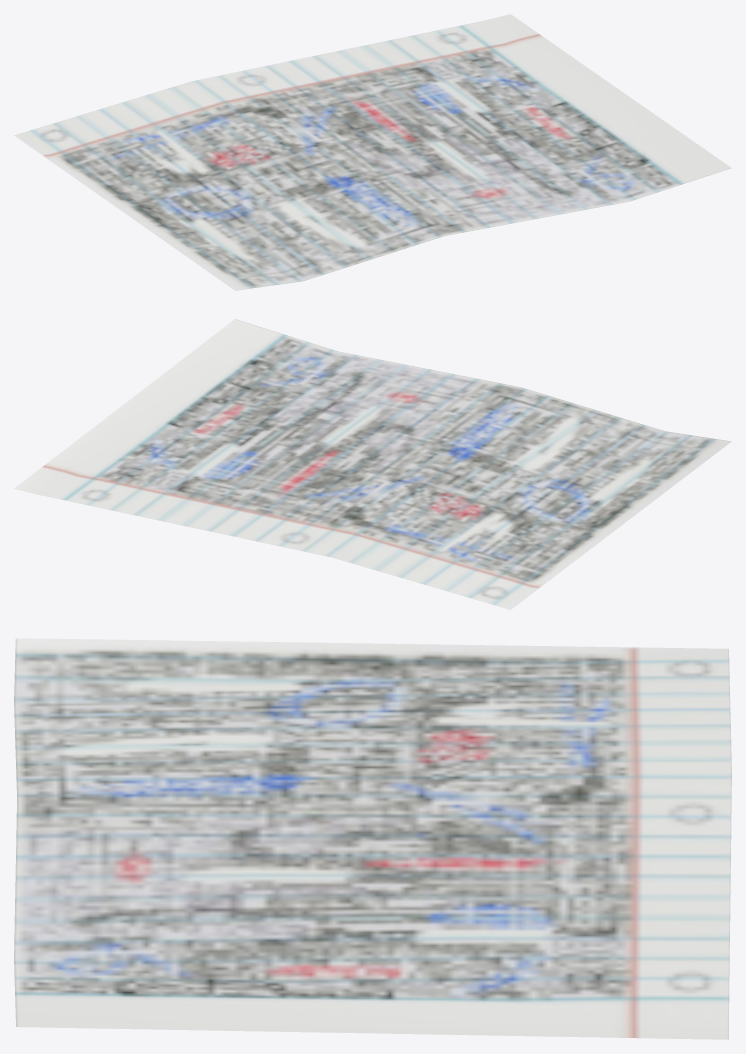
The model's file is paper-white-scribbled.glb.
3 views of the same model, one above another, from view 1: azimuth 30°, elevation 25°; view 2: azimuth 150°, elevation 25°; view 3: azimuth 270°, elevation 25° (orthographic). The views are drawn at different scales.
Visible parts, largest first — view 1: PaperWhiteScribbled; view 2: PaperWhiteScribbled; view 3: PaperWhiteScribbled.
Boxes of the visible parts, x1,y1,x2,y2 form: PaperWhiteScribbled: [14, 14, 731, 290]; PaperWhiteScribbled: [14, 319, 731, 609]; PaperWhiteScribbled: [14, 638, 731, 1039].
Bounding box in the file's own units: 0.2029 × 0.0038 × 0.1574.
1 material, 1 textured.
